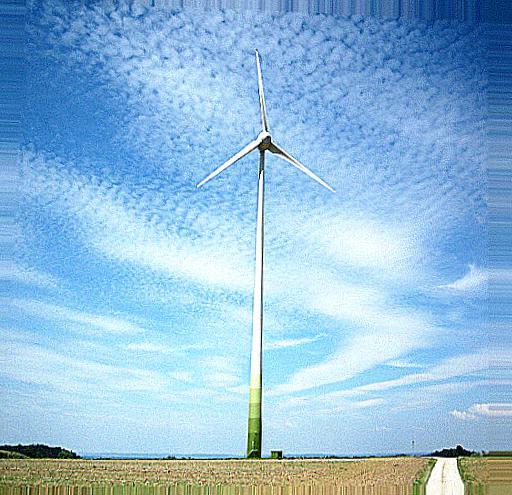wind turbine: (196, 48, 337, 462)
